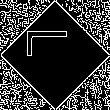L_E: (30, 40, 80, 70)
